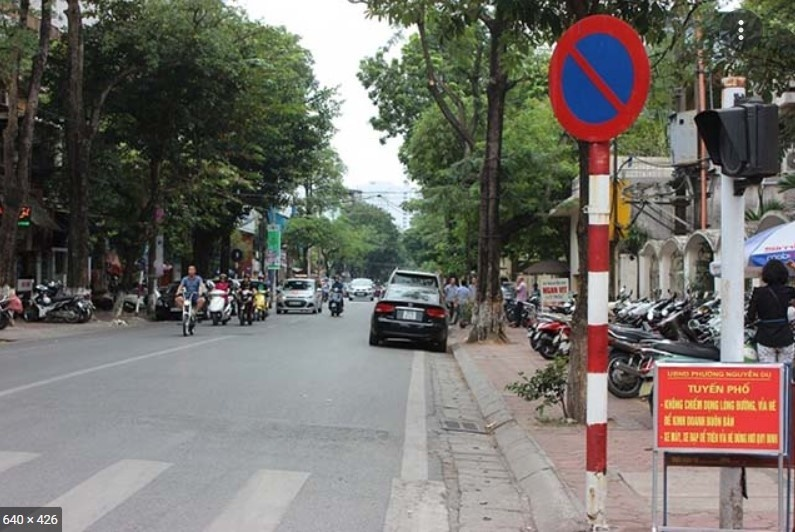Cam do xe: (547, 13, 651, 142)
